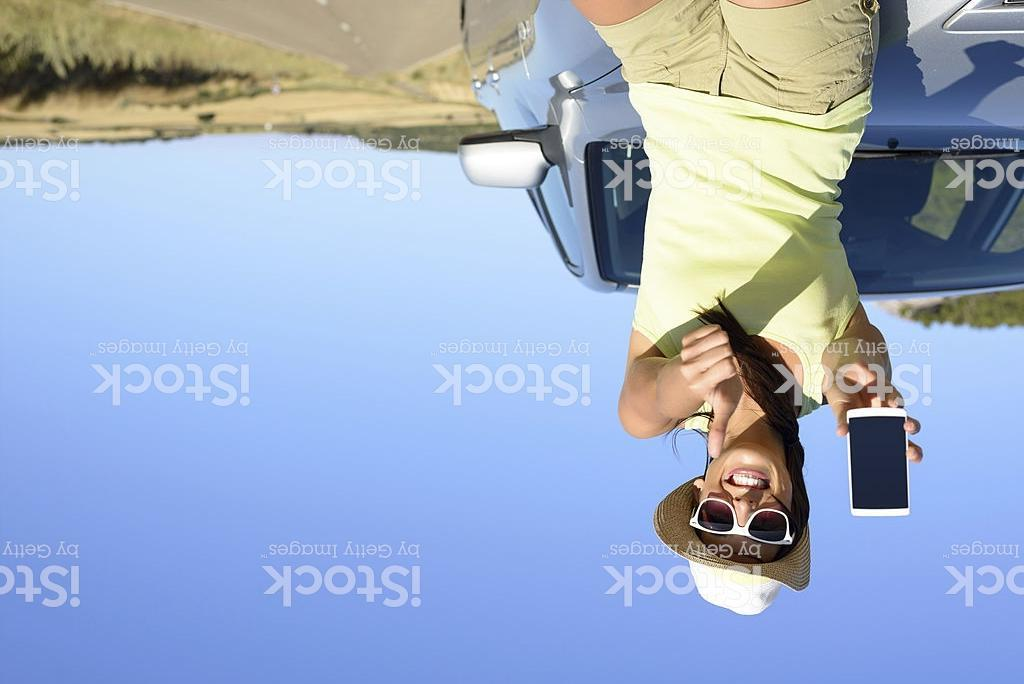thumbsdown: (678, 322, 745, 459)
